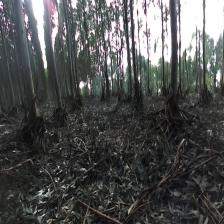trunk: (14, 5, 39, 122), (46, 8, 62, 109), (164, 3, 178, 112), (124, 7, 132, 95), (131, 21, 138, 84), (202, 22, 206, 90)
